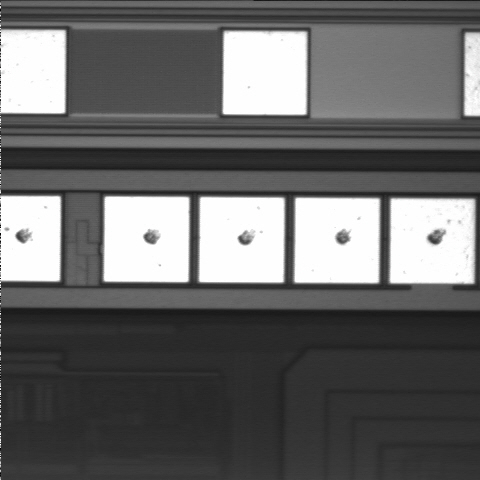pad: (104, 197, 189, 282), (199, 197, 284, 282), (295, 198, 379, 283), (223, 31, 307, 115), (390, 199, 474, 283)
